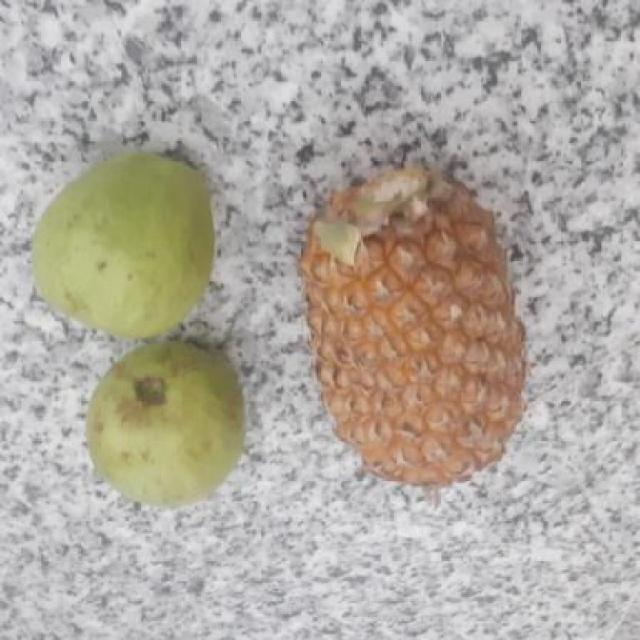guava: (23, 154, 215, 332), (79, 342, 248, 506)
pineapple: (300, 162, 525, 496)
